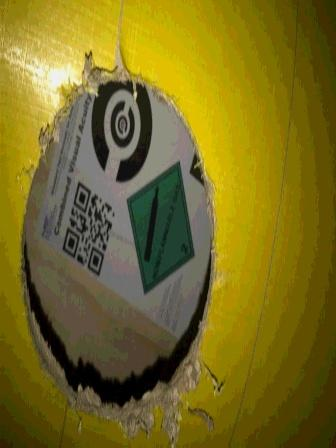non-flammable-gas: (124, 158, 192, 298)
